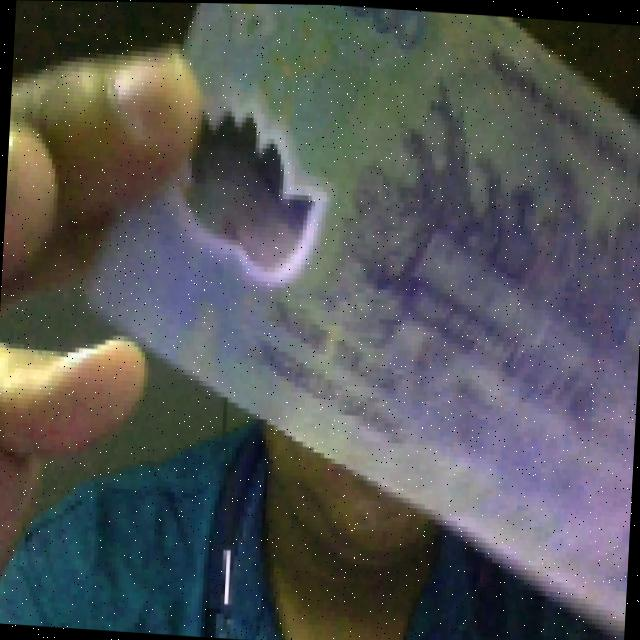500 000 VND: (56, 1, 640, 640)
